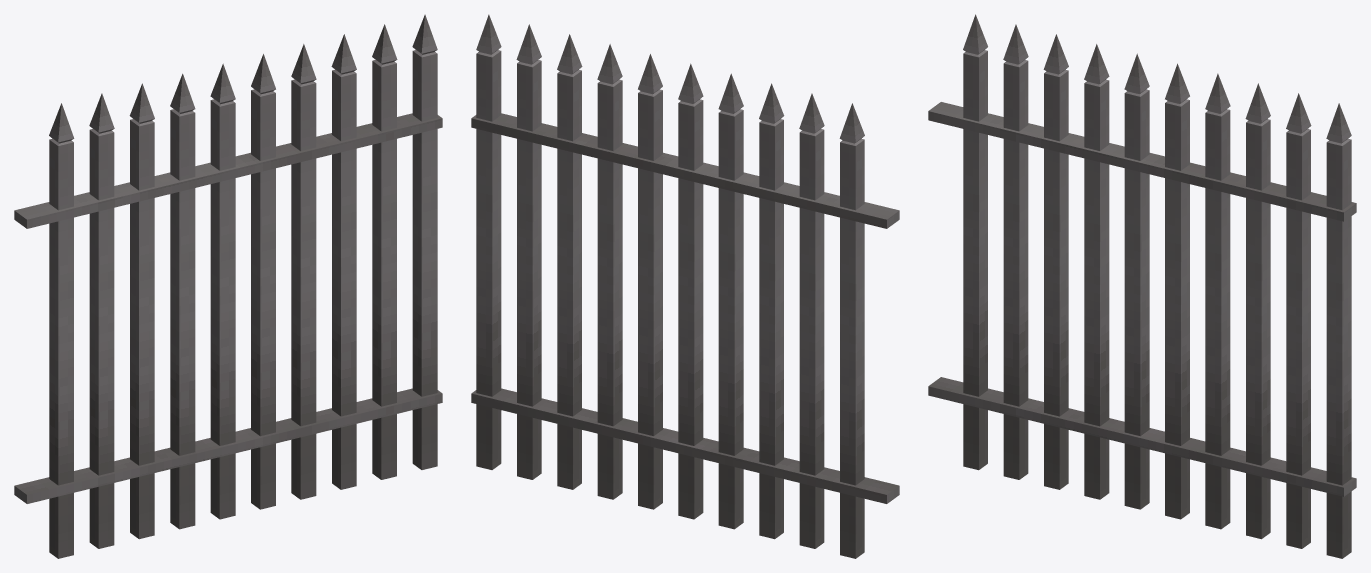
File: brick_wall_gate.glb
3 renders of one model, left to right at view 1: azimuth 30°, elevation 25°; view 2: azimuth 150°, elevation 25°; view 3: azimuth 330°, elevation 25°, orthographic.
Visible parts, largest first — view 1: brick_wall_gate; view 2: brick_wall_gate; view 3: brick_wall_gate.
Part boxes in pixels (x1,y1,x2,y2): brick_wall_gate: (14, 14, 442, 558); brick_wall_gate: (471, 14, 899, 558); brick_wall_gate: (928, 14, 1356, 558).
Size of the model in its own units: 1.58 by 1.64 by 0.084.
1 material, 1 textured.
